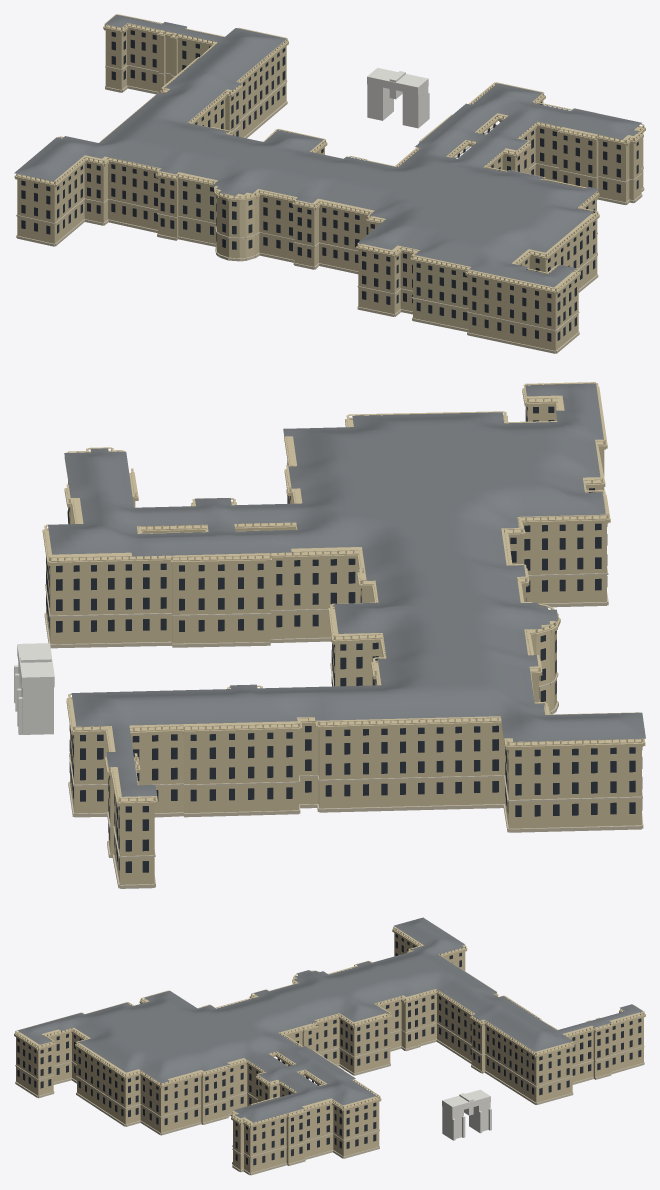
Rendered from buckingham-site-b35.glb.
3 renders of one model, top to bottom at view 1: azimuth 30°, elevation 25°; view 2: azimuth 150°, elevation 25°; view 3: azimuth 270°, elevation 25°, orthographic. The views are drawn at different scales.
Bounding box in the file's own units: 190 × 25.36 × 247.
